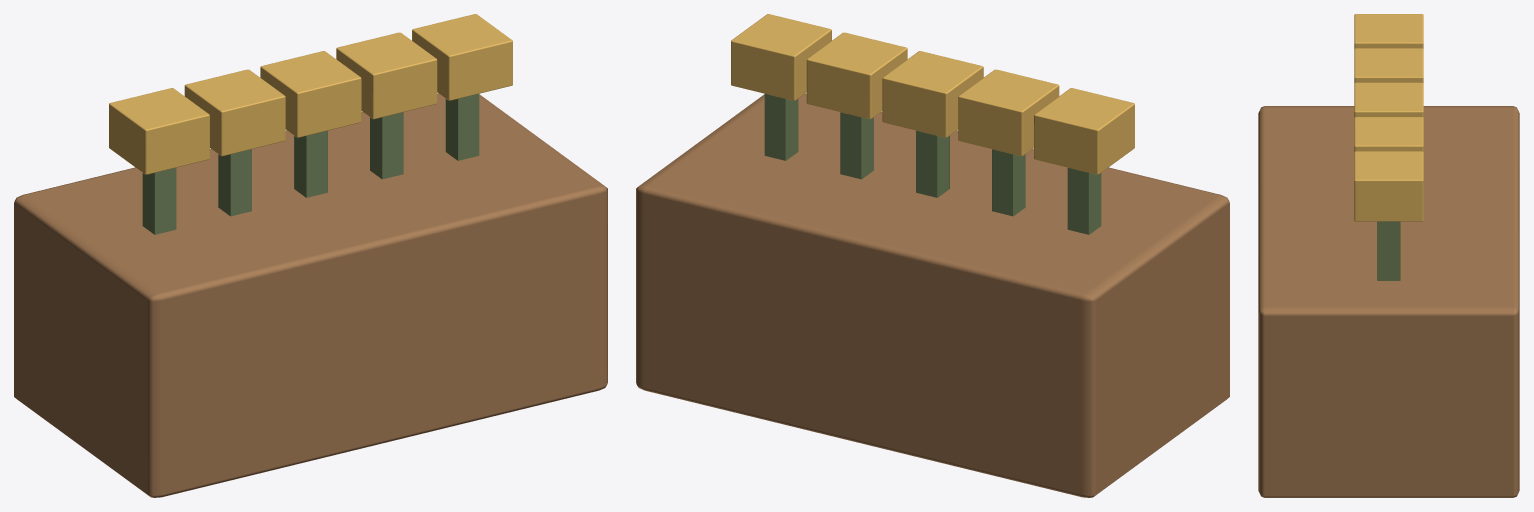
The model's file is flower-0.glb.
3 renders of one model, left to right at view 1: azimuth 30°, elevation 25°; view 2: azimuth 150°, elevation 25°; view 3: azimuth 270°, elevation 25°, orthographic. The views are drawn at different scales.
Parts seen in each view (by area): view 1: flower-0-0; view 2: flower-0-0; view 3: flower-0-0.
Boxes of the visible parts, <box> form: flower-0-0: <box>14,14,607,497</box>; flower-0-0: <box>636,14,1229,497</box>; flower-0-0: <box>1258,14,1519,497</box>.
Size of the model in its own units: 0.85 by 0.57 by 0.45.
